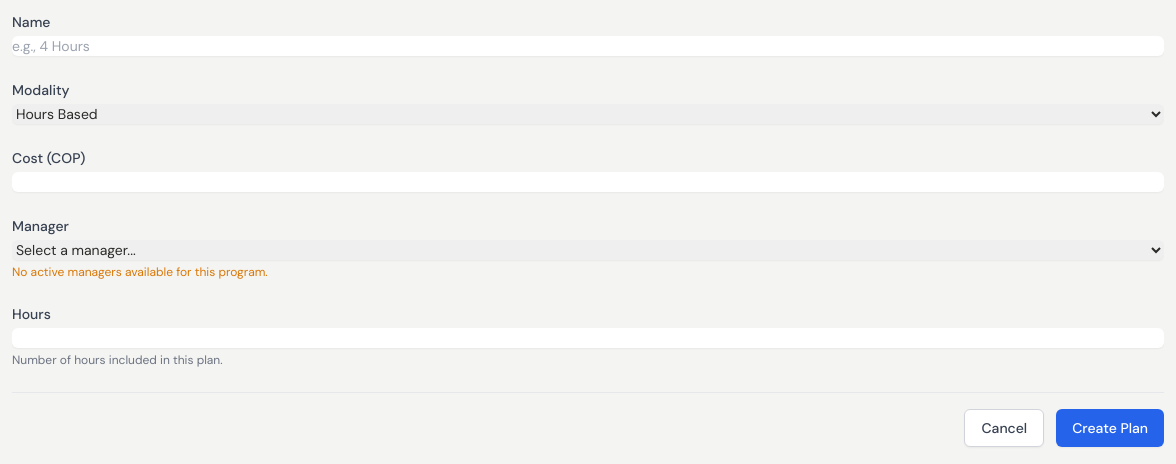
Test: ProgramPlanForm › CLASSES_PER_WEEK modality › should render schedule builder when modality is changed to CLASSES_PER_WEEK
Select "Classes per Week" in the dropdown labelled "Modality" at (588, 114), box [12,104,1164,124]
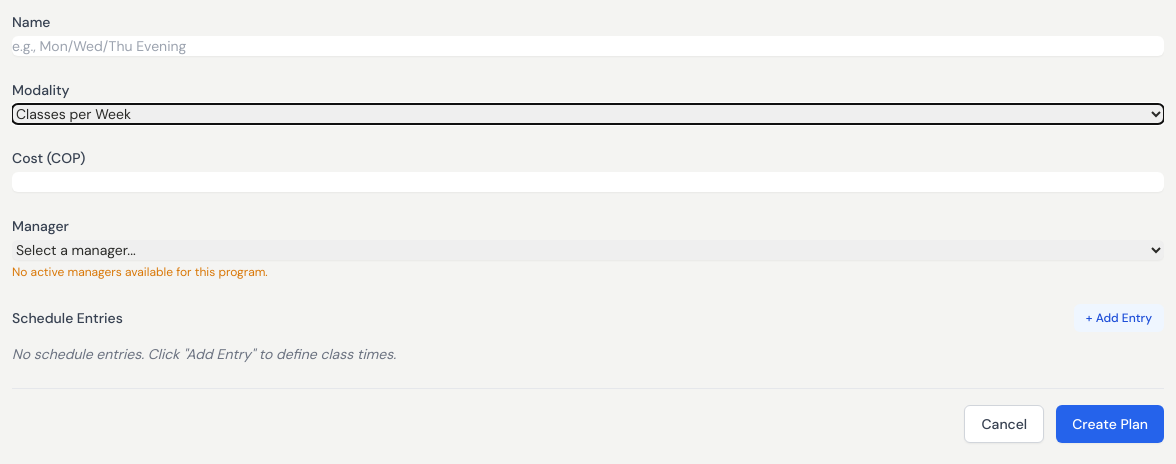
Expected: the text "Schedule Entries" is shown, [12,308,123,328]
Expected: the button "+ Add Entry" is shown, [1074,304,1164,332]
Expected: the label labelled "Hours" is gone
